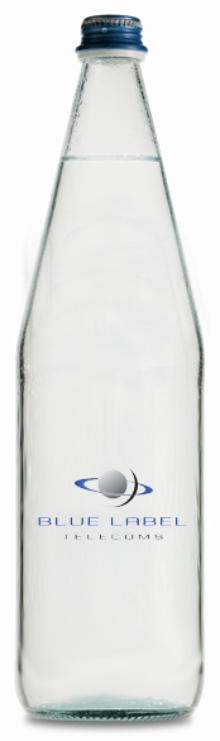glass of water: (21, 243, 201, 721)
